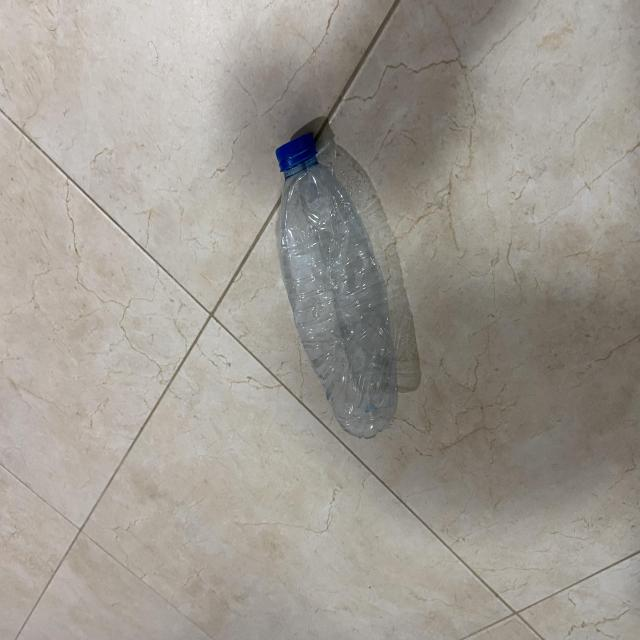bottle: (270, 125, 400, 445)
